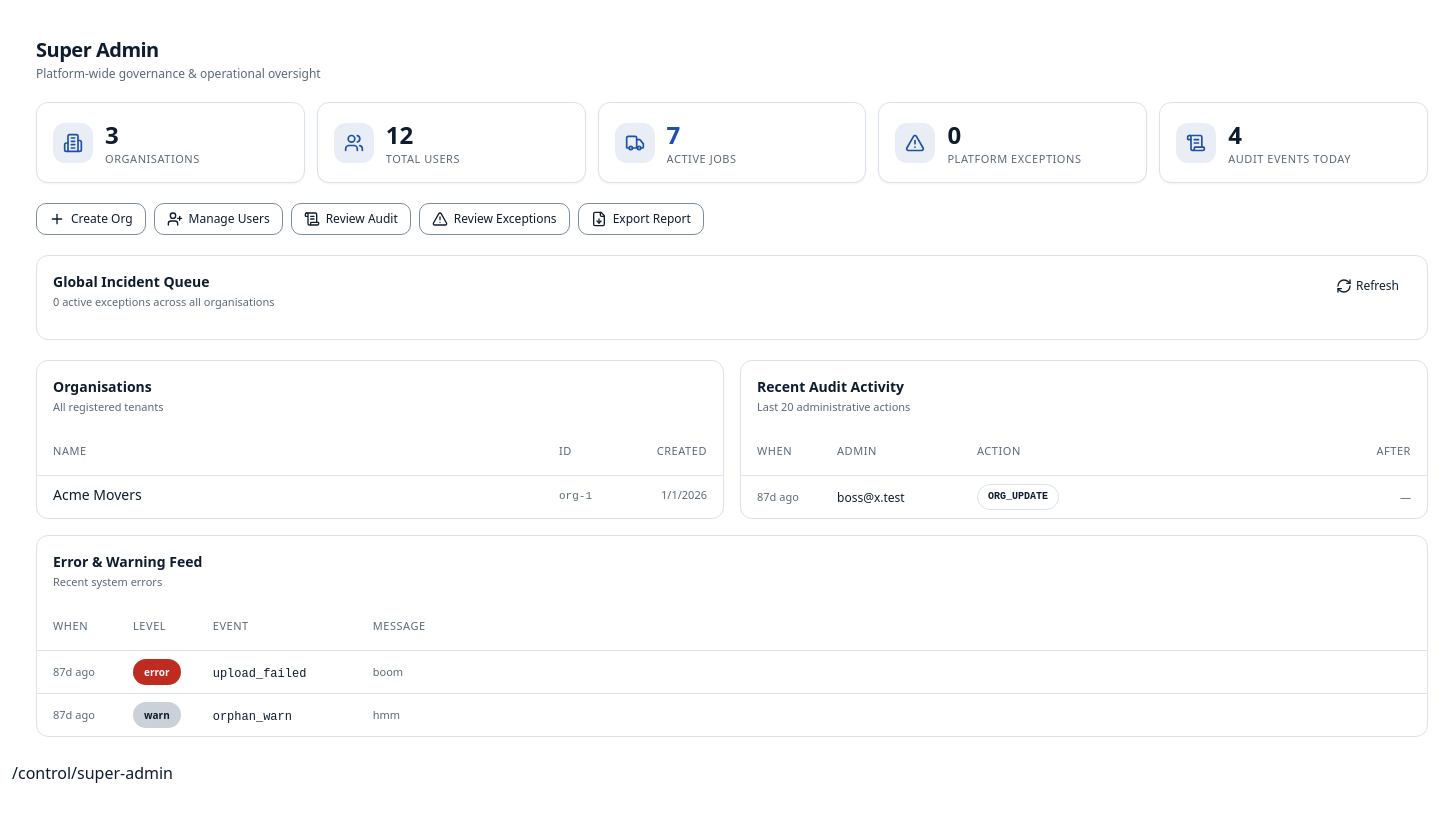
Scenario: ControlSuperAdmin linking › organisation rows open the organisation profile
Click the text "Acme Movers" at (97,494), box [53, 485, 142, 504]
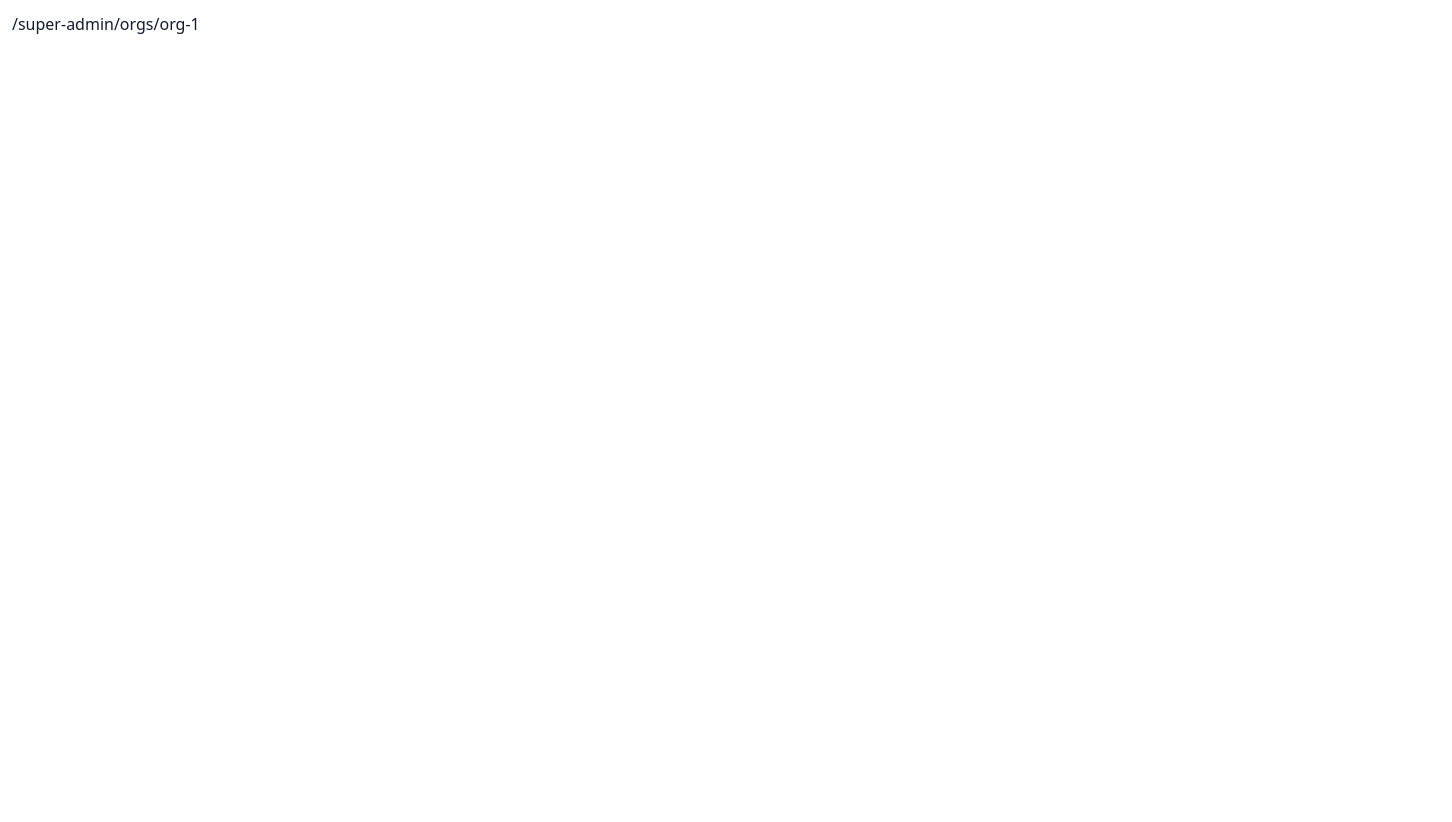
Now the text with test id "location" reads "/super-admin/orgs/org-1", box [12, 13, 200, 35]
